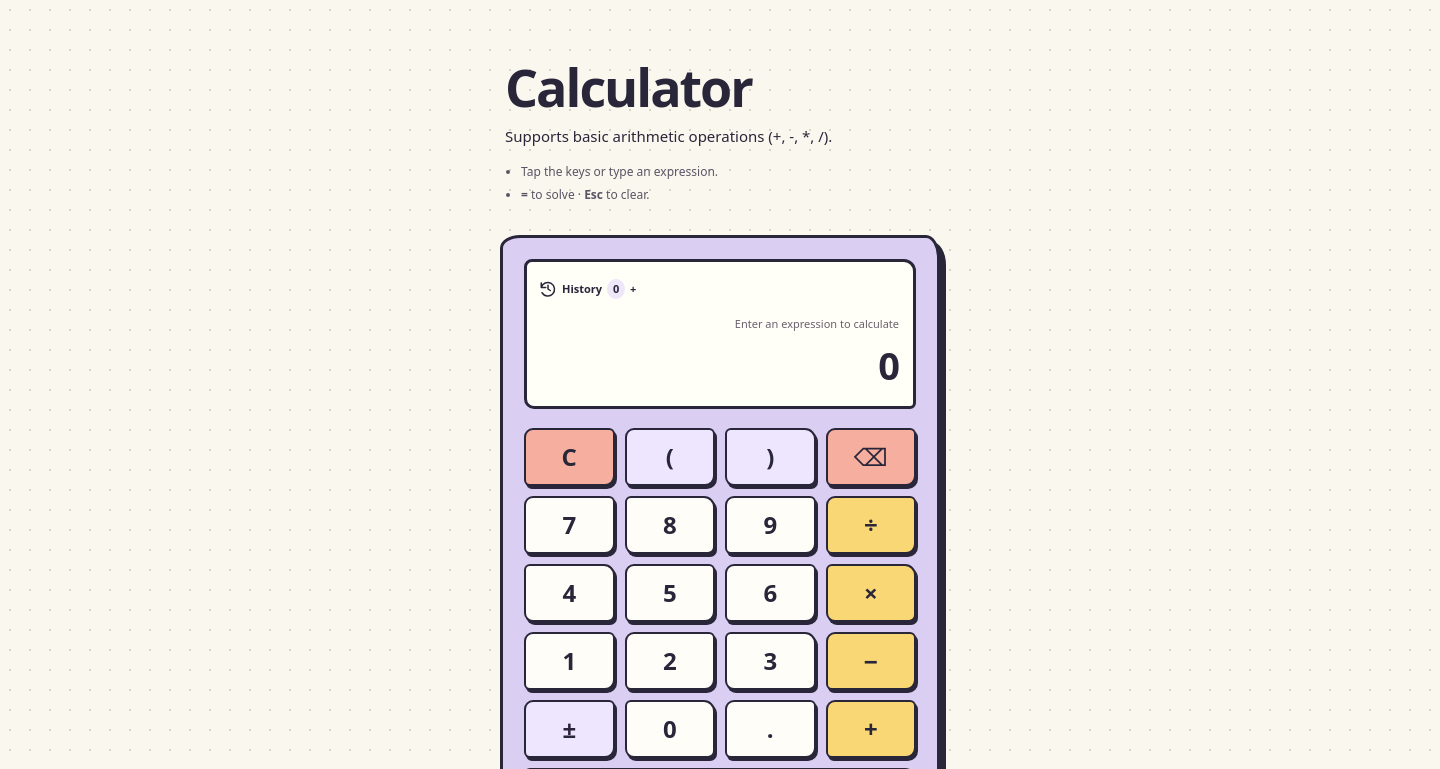
Test: calculator acceptance criteria › backspaces one digit or token using either input method
Type keys "(12.3+4)"
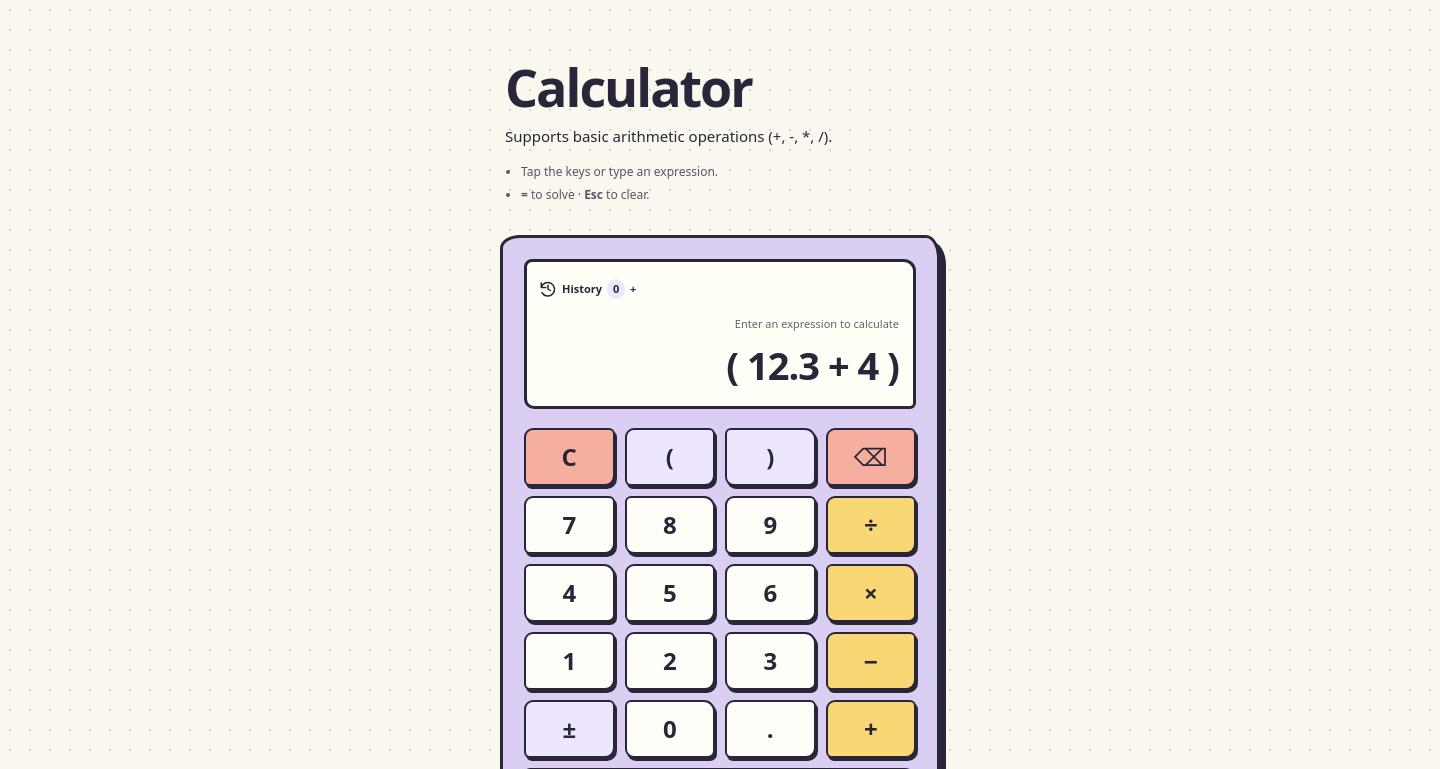
Click the button named "Backspace".
click(871, 457)  # box x1=826 y1=428 x2=916 y2=486
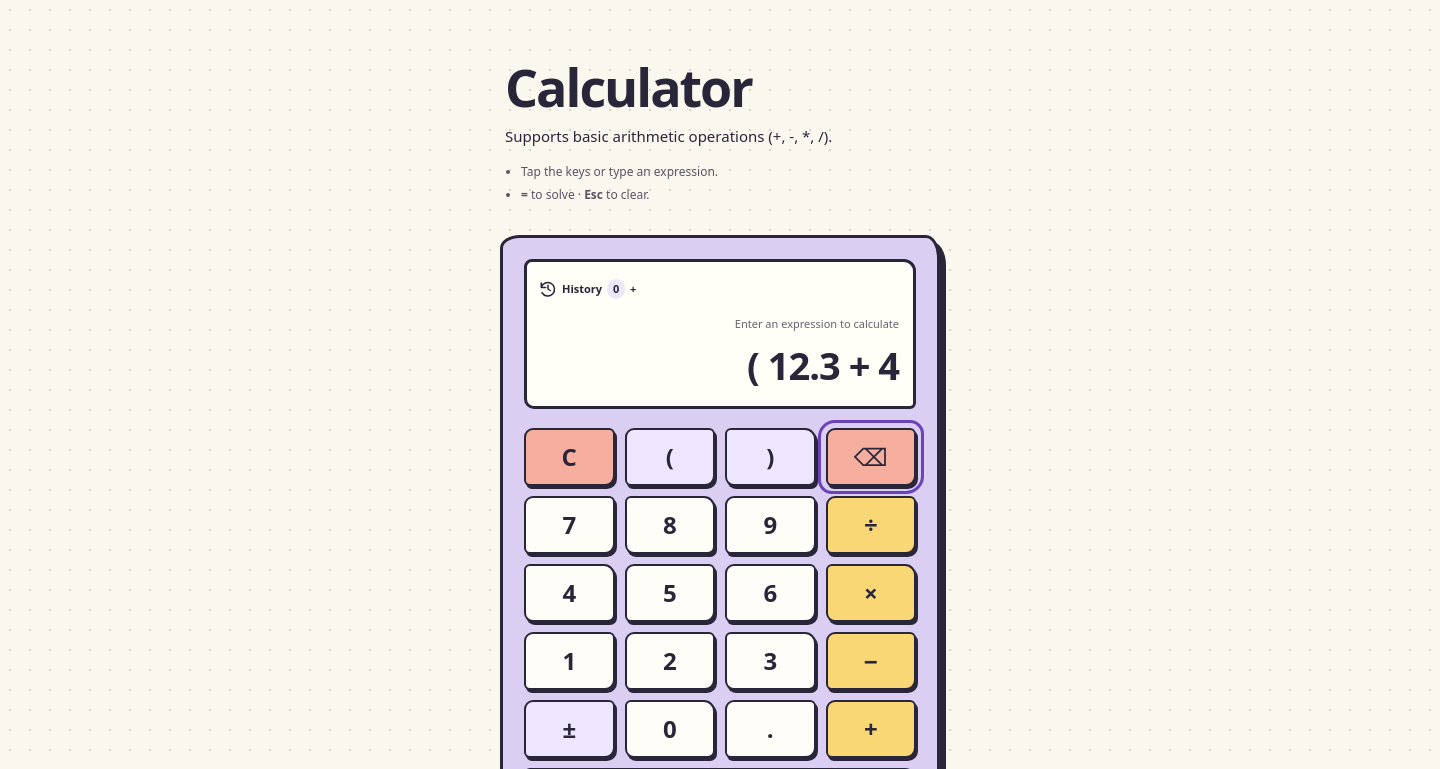
Expected: the message reads "( 12.3 + 4", x1=747 y1=339 x2=899 y2=391
Press Backspace Backspace Backspace
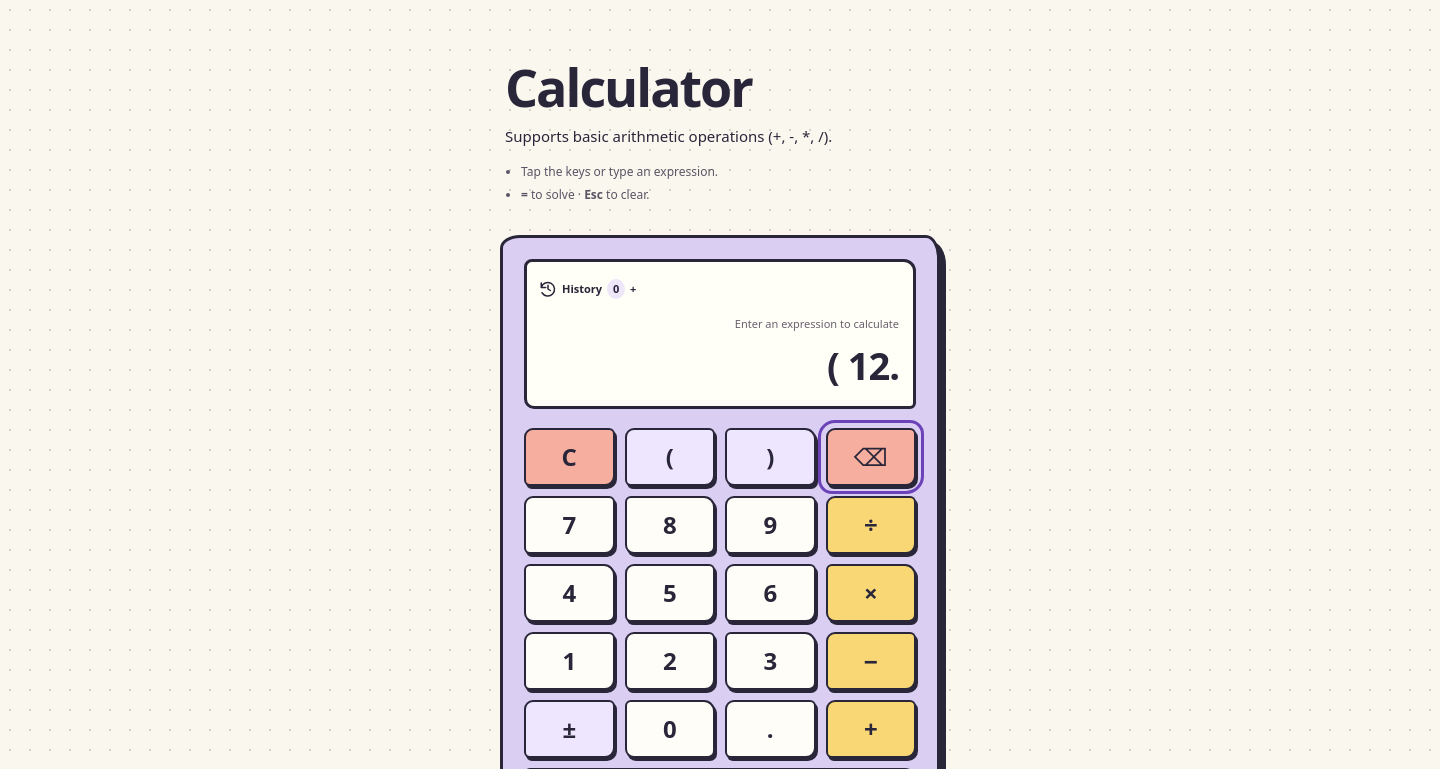
Expected: the message reads "( 12.", x1=827 y1=339 x2=899 y2=391
Press Backspace Backspace
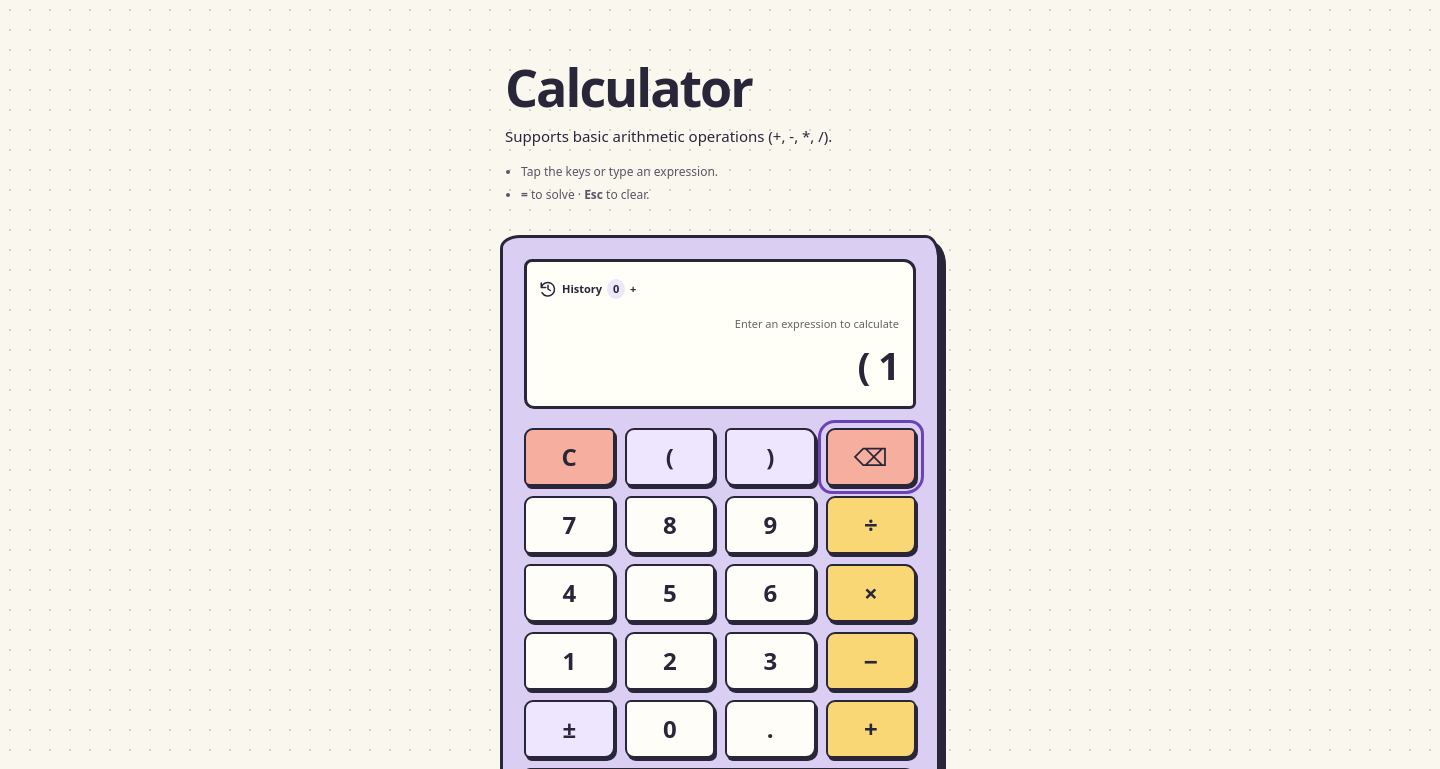
Expected: the message reads "( 1", x1=858 y1=339 x2=899 y2=391
